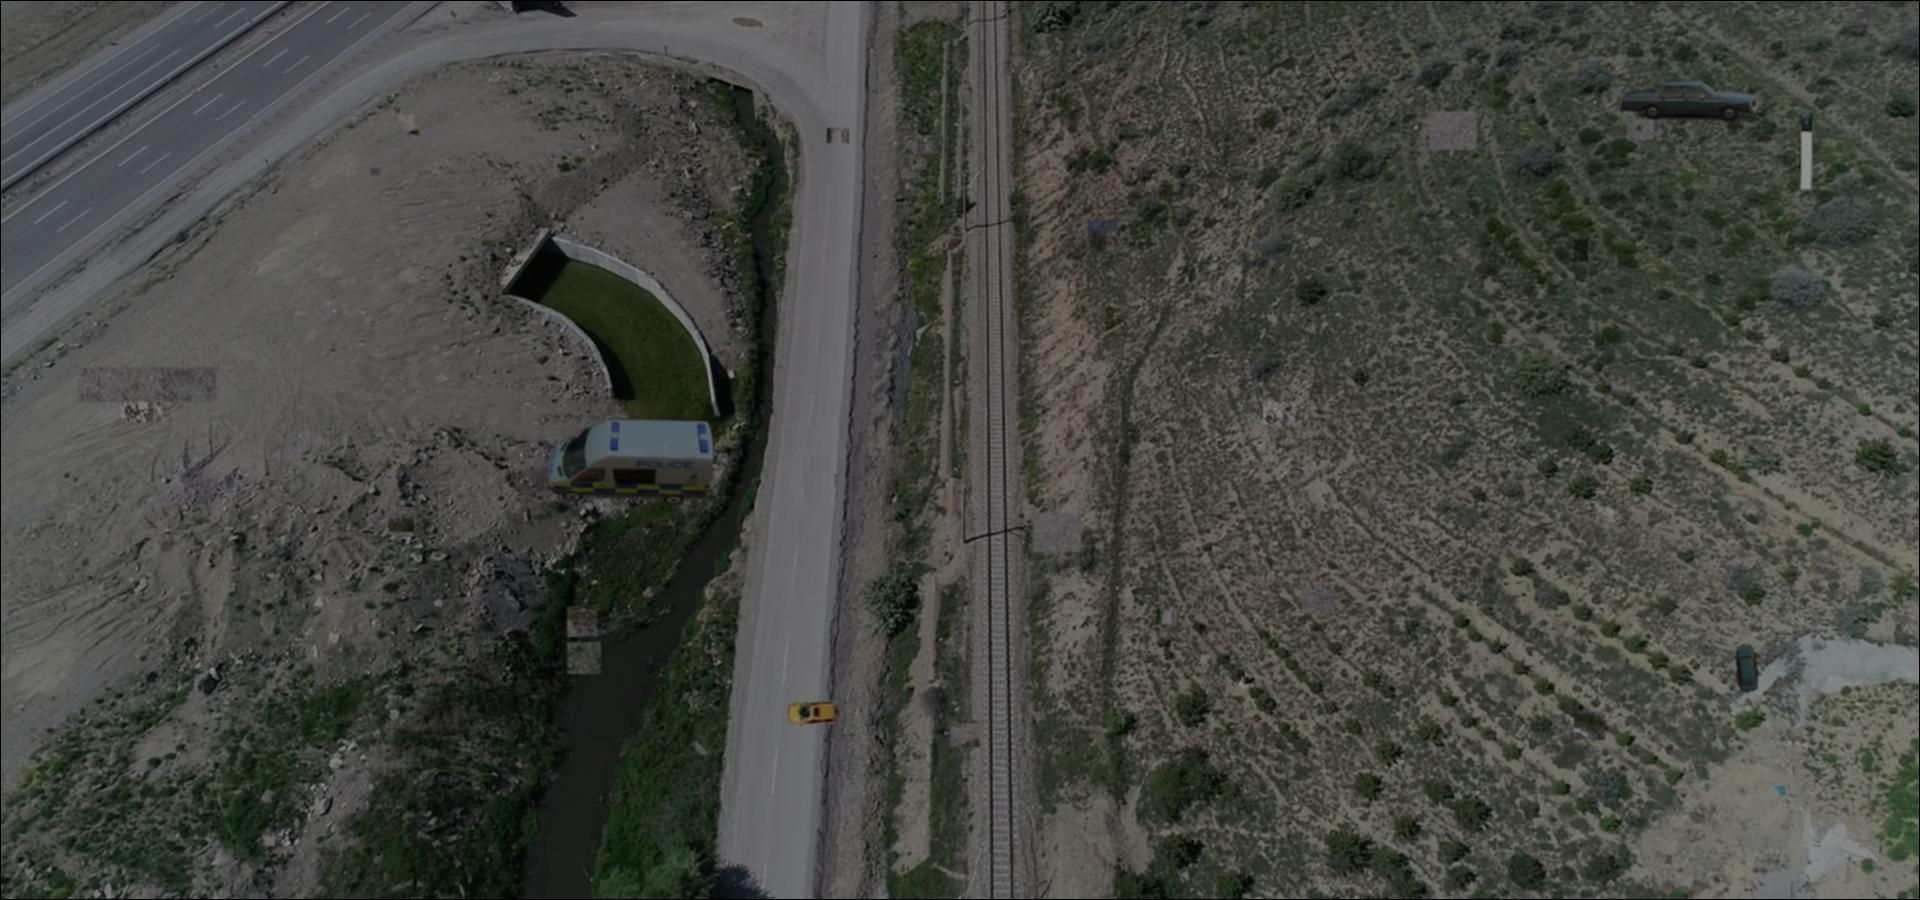arac: (539, 414, 718, 507), (1611, 77, 1761, 122), (785, 699, 842, 729), (1798, 111, 1816, 191), (1735, 645, 1760, 692)
